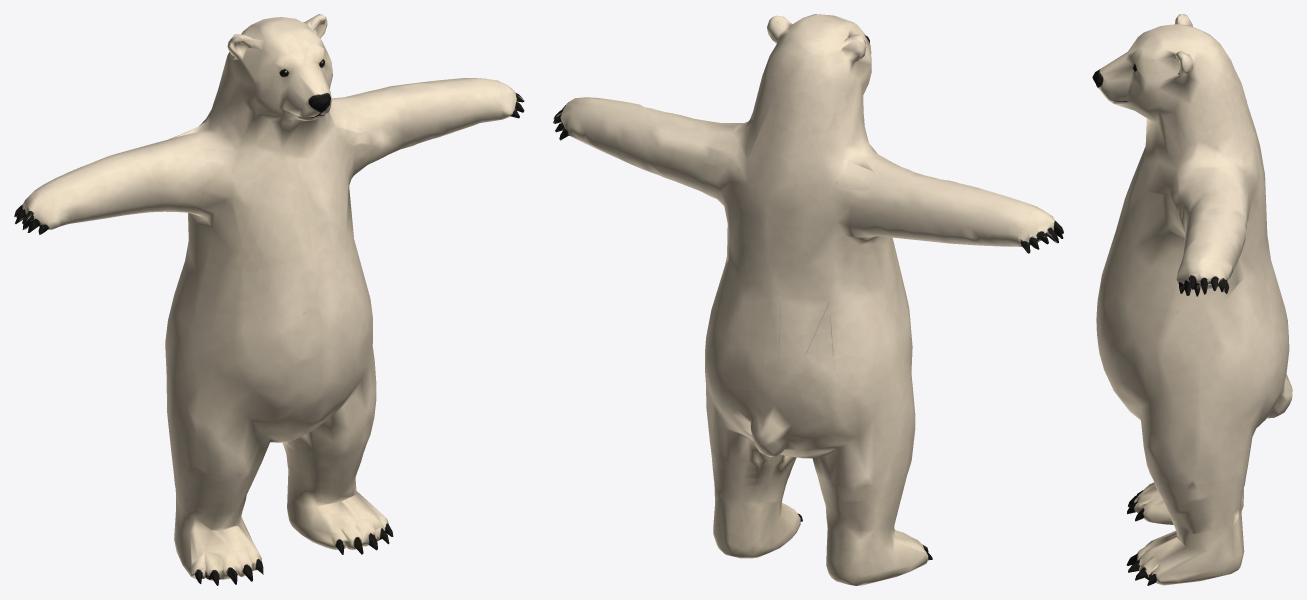
File: polar-bear-limbs.glb
3 renders of one model, left to right at view 1: azimuth 30°, elevation 25°; view 2: azimuth 150°, elevation 25°; view 3: azimuth 270°, elevation 25°, orthographic. The views are drawn at different scales.
Visible parts, largest first — view 1: polar-bear; view 2: polar-bear; view 3: polar-bear.
Part boxes in pixels (x1,y1,x2,y2): polar-bear: (14, 14, 524, 585); polar-bear: (553, 14, 1063, 585); polar-bear: (1092, 14, 1292, 585).
Bounding box in the file's own units: 1.9 × 1.9 × 0.6741.
Materials: 1 (1 with a texture image).
